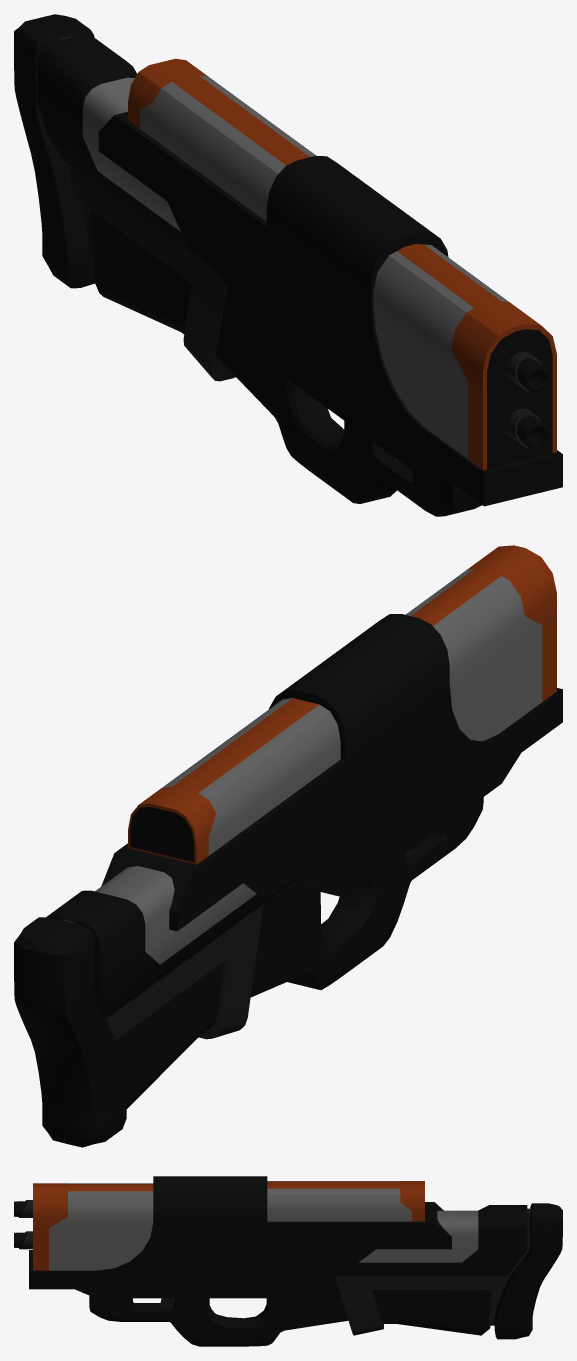
The picture shows the model from 3 angles, top to bottom: view 1: azimuth 30°, elevation 25°; view 2: azimuth 150°, elevation 25°; view 3: azimuth 270°, elevation 25°; orthographic projection. The views are drawn at different scales.
Parts seen in each view (by area): view 1: AR_2; view 2: AR_2; view 3: AR_2.
Boxes of the visible parts, x1,y1,x2,y2 form: AR_2: (14,14,562,516); AR_2: (14,545,562,1147); AR_2: (14,1176,562,1346).
Bounding box in the file's own units: 0.1356 × 0.4864 × 1.49.
